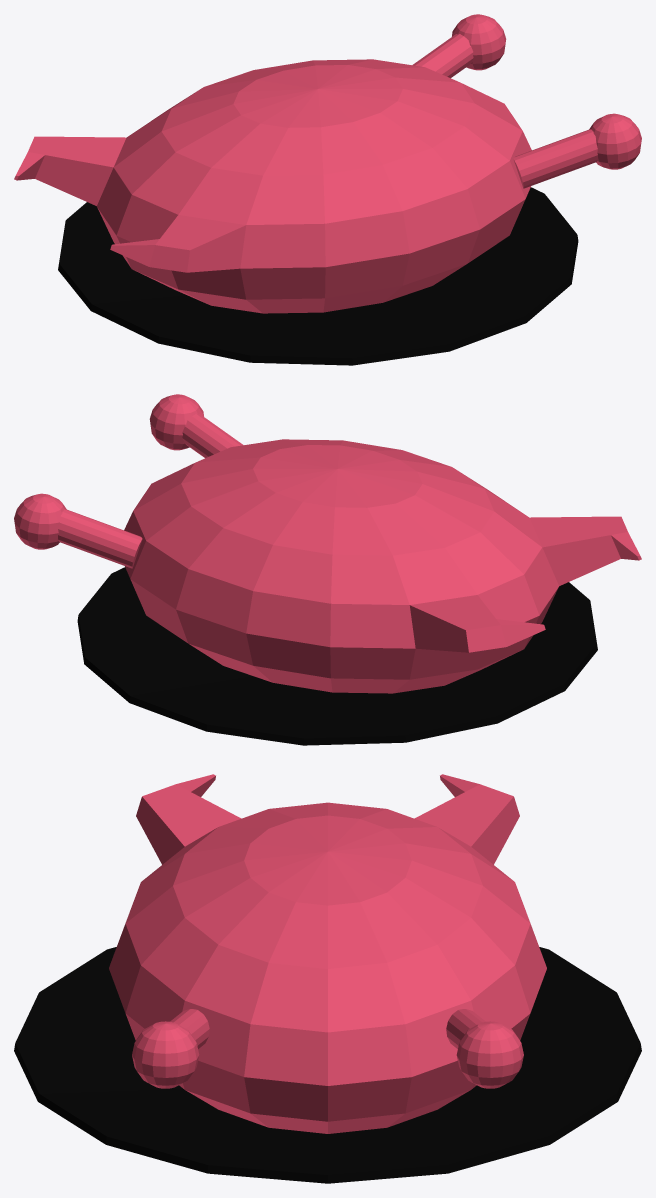
The model's file is Chicken_Trukey.fbx.
3 renders of one model, top to bottom at view 1: azimuth 30°, elevation 25°; view 2: azimuth 150°, elevation 25°; view 3: azimuth 270°, elevation 25°, orthographic. The views are drawn at different scales.
Visible parts, largest first — view 1: Chicken_Turkey_01, Plate_1; view 2: Chicken_Turkey_01, Plate_1; view 3: Chicken_Turkey_01, Plate_1.
Part boxes in pixels (<box>): Chicken_Turkey_01: <box>14,14,641,313</box>; Plate_1: <box>58,187,578,365</box>; Chicken_Turkey_01: <box>14,394,641,693</box>; Plate_1: <box>77,567,597,745</box>; Chicken_Turkey_01: <box>109,774,546,1133</box>; Plate_1: <box>14,947,641,1183</box>.
Size of the model in its own units: 48.44 by 17.75 by 43.32.
